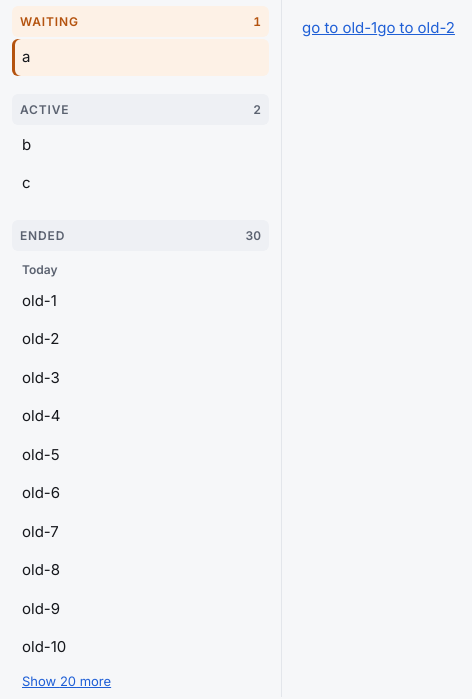
a group with `first` shows its days and its first rows, then Show N more
Expected: the text with class "group-count" reads "30", [246,228,261,242]
Click the button "Show 20 more": click(67, 681) [22,672,111,691]
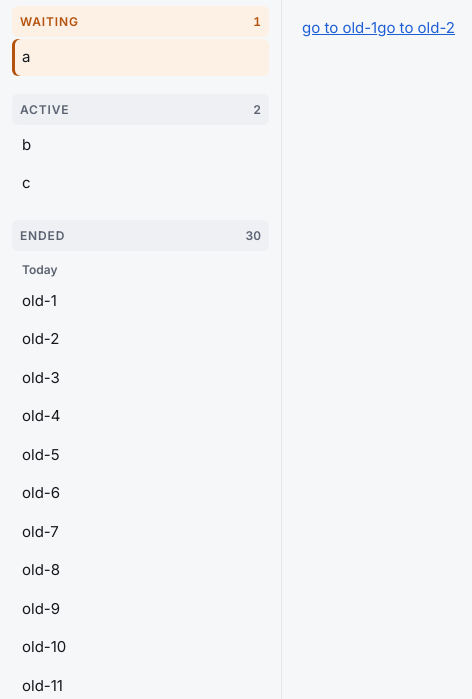
Expected: the heading "Today" is shown, [22,262,58,276]
Now the button "more" is gone
